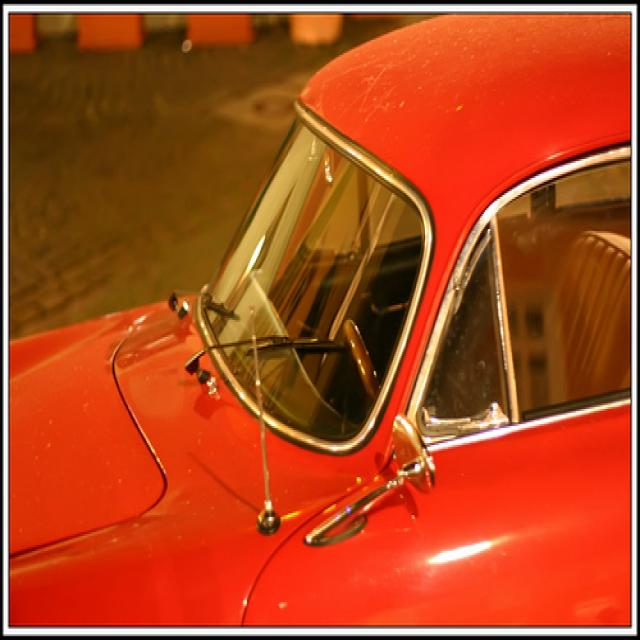Car: (9, 10, 632, 625)
